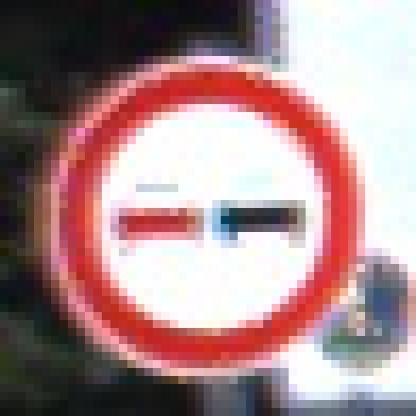No Overtaking: (44, 49, 375, 377)
